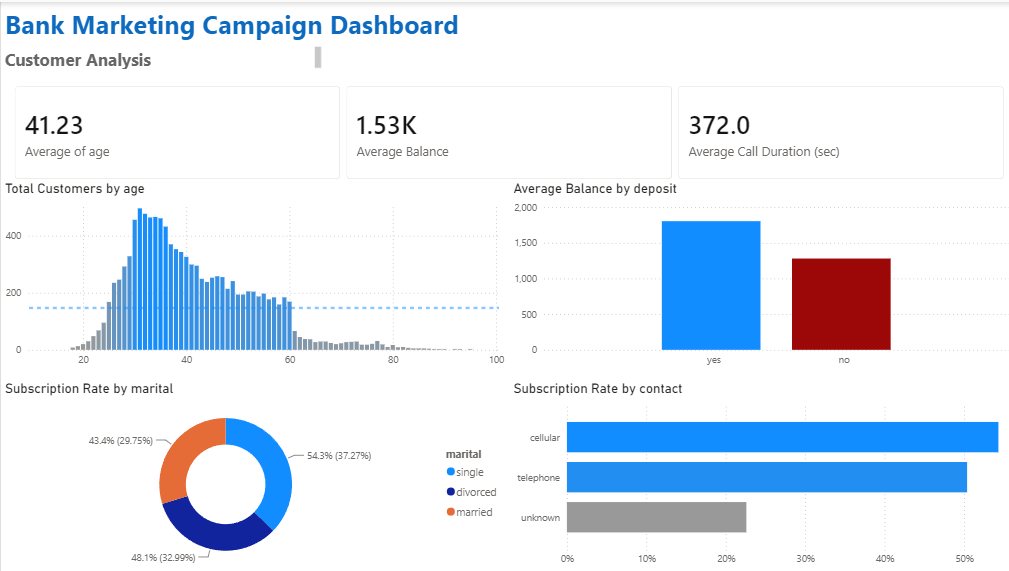

The dashboard page shown, as its layout file describes it:
{"tool":"powerbi","page":{"name":"Customer Analysis","canvas":[1280,720],"ordinal":1},"visuals":[{"type":"textbox","box":[0,0,946.8,71.8],"z":0},{"type":"textbox","box":[0,51,408.2,37.8],"z":1000},{"type":"cardVisual","fields":{"Data":["Avg(bank.age)","bank.Average Balance","bank.Average Call Duration (sec)"]},"box":[0,89.6,1280.7,151.4],"z":2000},{"type":"clusteredColumnChart","fields":{"Category":["bank.age"],"Y":["bank.Total Customers"]},"box":[0,225.1,639.3,243],"z":3000},{"type":"clusteredColumnChart","fields":{"Category":["bank.deposit"],"Y":["bank.Average Balance"]},"box":[641.3,225.1,639.3,243],"z":4000},{"type":"donutChart","fields":{"Category":["bank.marital"],"Y":["bank.Subscription Rate"]},"box":[0,476,639.3,243],"z":5000},{"type":"clusteredBarChart","fields":{"Y":["bank.Subscription Rate"],"Category":["bank.contact"]},"box":[641.3,476,639.3,243],"z":6000}]}

Visuals, with their boxes in screenshot pixels (x1, y1, x2, y2), scaled from the page's 1280x720 canvas onto the 1009x571 screenshot:
textbox: l=0, t=0, r=746, b=57
textbox: l=0, t=40, r=322, b=70
cardVisual - Avg(bank.age) x bank.Average Balance: l=0, t=71, r=1008, b=191
clusteredColumnChart - bank.age x bank.Total Customers: l=0, t=179, r=504, b=371
clusteredColumnChart - bank.deposit x bank.Average Balance: l=506, t=179, r=1008, b=371
donutChart - bank.marital x bank.Subscription Rate: l=0, t=377, r=504, b=570
clusteredBarChart - bank.Subscription Rate x bank.contact: l=506, t=377, r=1008, b=570
